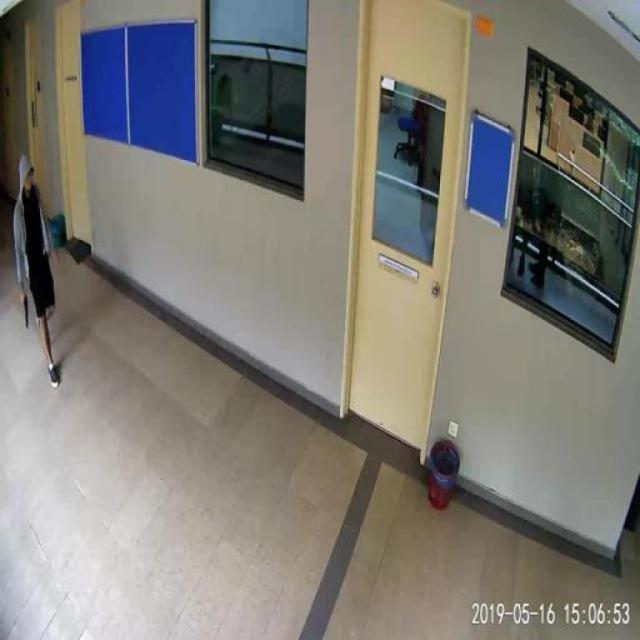pistol: (18, 291, 28, 329)
